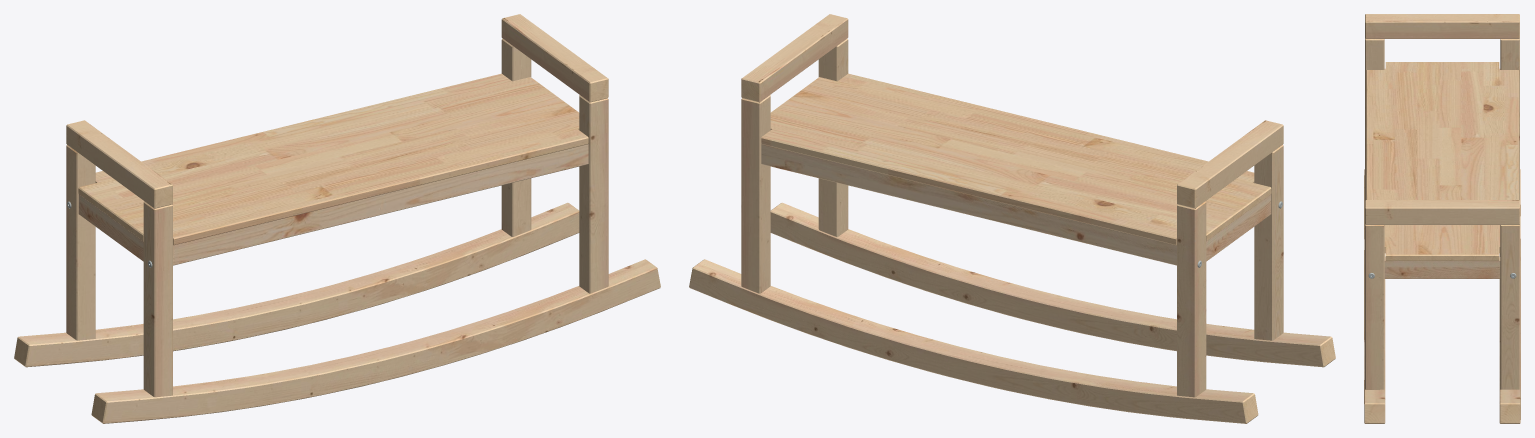
Rendered from ikea_ps_2026_awka_30617893.glb.
3 views of the same model, side by side, from view 1: azimuth 30°, elevation 25°; view 2: azimuth 150°, elevation 25°; view 3: azimuth 270°, elevation 25° (orthographic). The views are drawn at different scales.
Visible parts, largest first — view 1: ikea_ps_2026_awka_30617893; view 2: ikea_ps_2026_awka_30617893; view 3: ikea_ps_2026_awka_30617893.
Part boxes in pixels (x1,y1,x2,y2): ikea_ps_2026_awka_30617893: (14,14,660,423); ikea_ps_2026_awka_30617893: (689,14,1335,423); ikea_ps_2026_awka_30617893: (1364,14,1520,423).
Size of the model in its own units: 1.27 by 0.5421 by 0.3542.
1 material, 1 textured.
